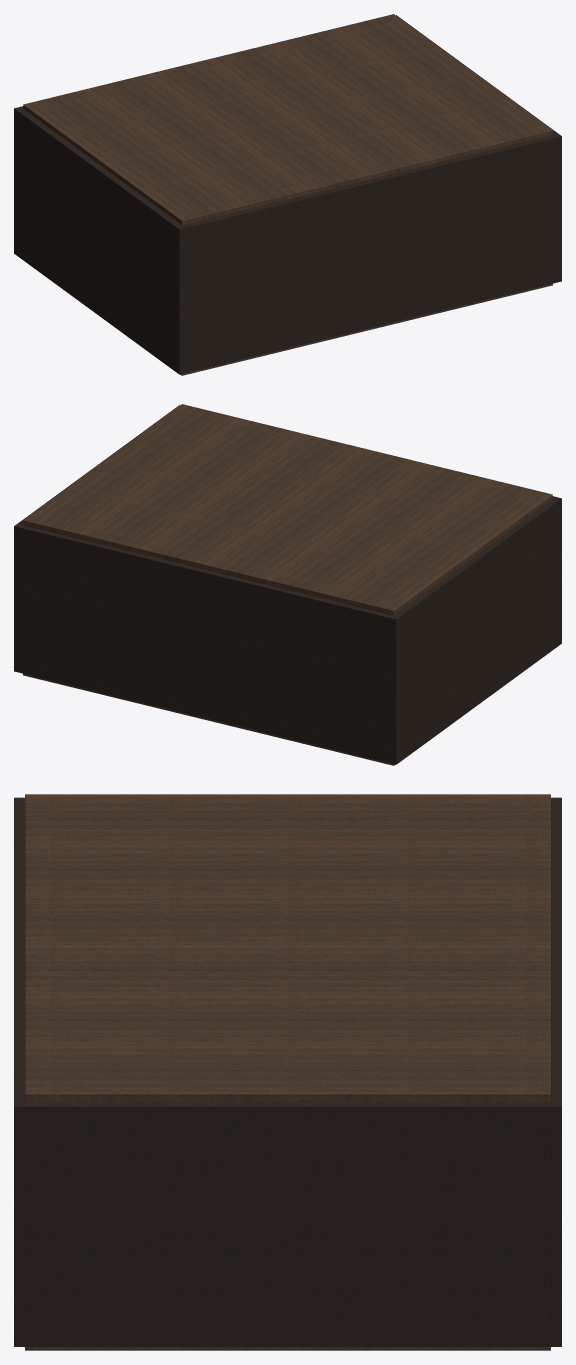
File: nocturne-mobile.glb
3 renders of one model, top to bottom at view 1: azimuth 30°, elevation 25°; view 2: azimuth 150°, elevation 25°; view 3: azimuth 270°, elevation 25°, orthographic. The views are drawn at different scales.
Parts seen in each view (by area): view 1: OVERHEAD_Ceiling finish, SHELL_south, SHELL_west, SHELL_Floor, SHELL_north, OVERHEAD_Smoked oak; view 2: OVERHEAD_Ceiling finish, SHELL_north, SHELL_west, SHELL_Floor, SHELL_south, OVERHEAD_Smoked oak; view 3: OVERHEAD_Ceiling finish, SHELL_east, SHELL_north, SHELL_south, SHELL_Floor.
Boxes of the visible parts, x1,y1,x2,y2 form: OVERHEAD_Ceiling finish: (23,14,552,225); SHELL_south: (176,134,561,374); SHELL_west: (17,109,181,371); SHELL_Floor: (180,283,552,375); SHELL_north: (14,15,399,255); OVERHEAD_Smoked oak: (24,110,551,225); OVERHEAD_Ceiling finish: (23,404,552,615); SHELL_north: (14,524,399,764); SHELL_west: (394,499,558,761); SHELL_Floor: (23,673,395,765); SHELL_south: (176,405,561,645); OVERHEAD_Smoked oak: (24,500,551,615); OVERHEAD_Ceiling finish: (25,794,550,1101); SHELL_east: (25,1102,550,1346); SHELL_north: (551,797,561,1346); SHELL_south: (14,797,24,1346); SHELL_Floor: (25,1101,550,1350).
Size of what is drawn, in the model's own units: 15.98 by 6.2 by 11.98.
14 materials, 10 textured.
